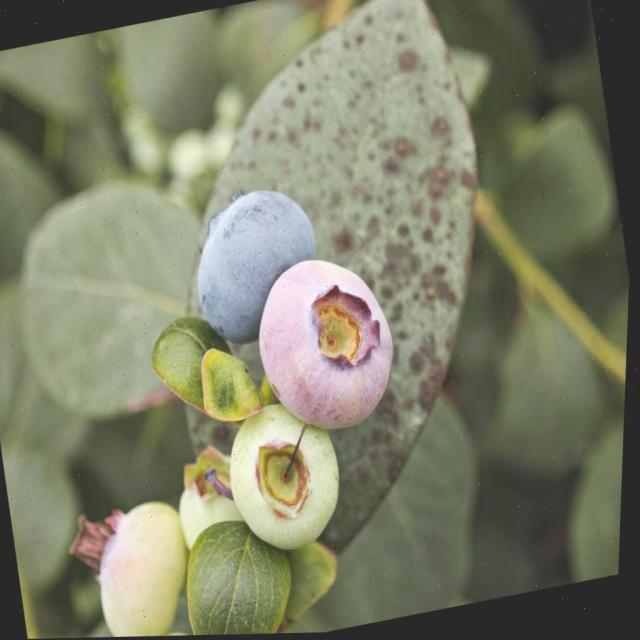RipeBlueBerry: (181, 177, 334, 349)
Semi-RipeBlueBerry: (245, 244, 414, 447)
UnripeBlueBerry: (217, 392, 360, 566), (86, 498, 206, 638)
